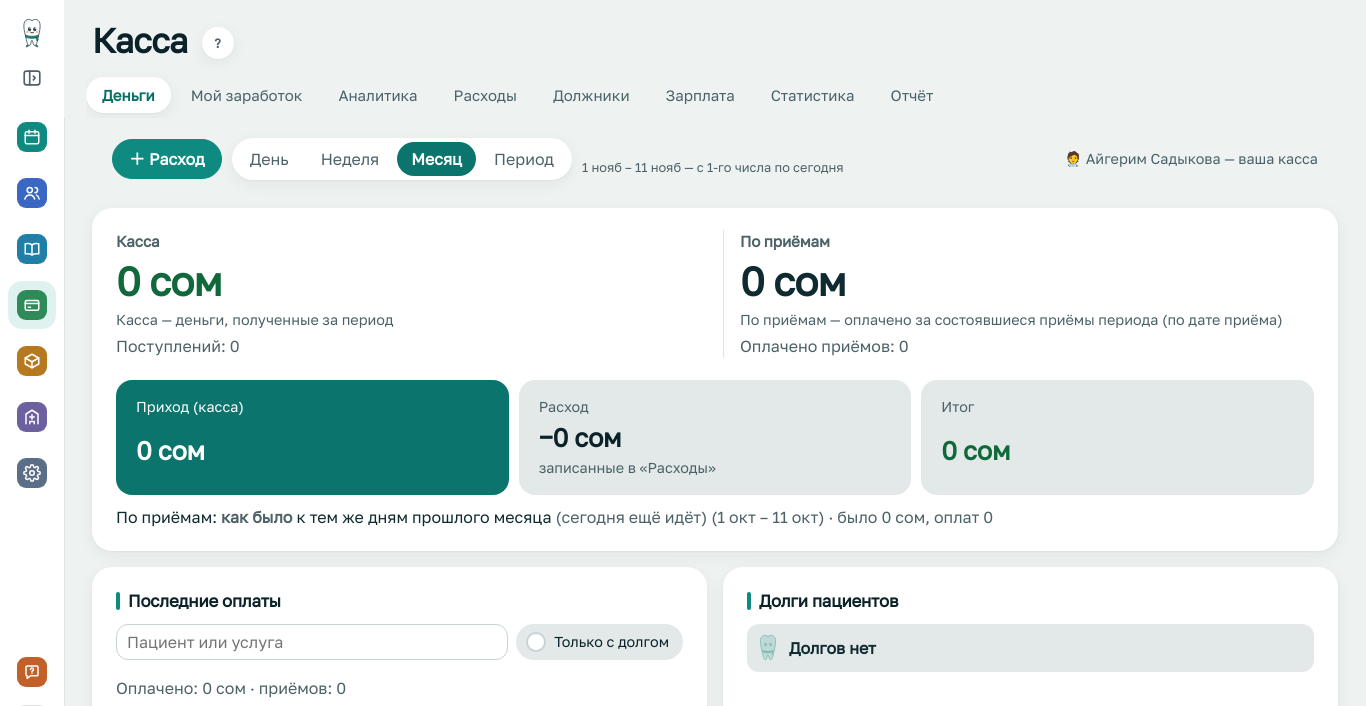
Scenario: условия зарплаты не заданы — выручка врача и подсказка про «Зарплату»
Expected: the navigation bar named "Разделы" is shown, x1=8 y1=113 x2=56 y2=497
Click the link "Мой заработок" at point(247, 95), box x1=191 y1=86 x2=302 y2=104
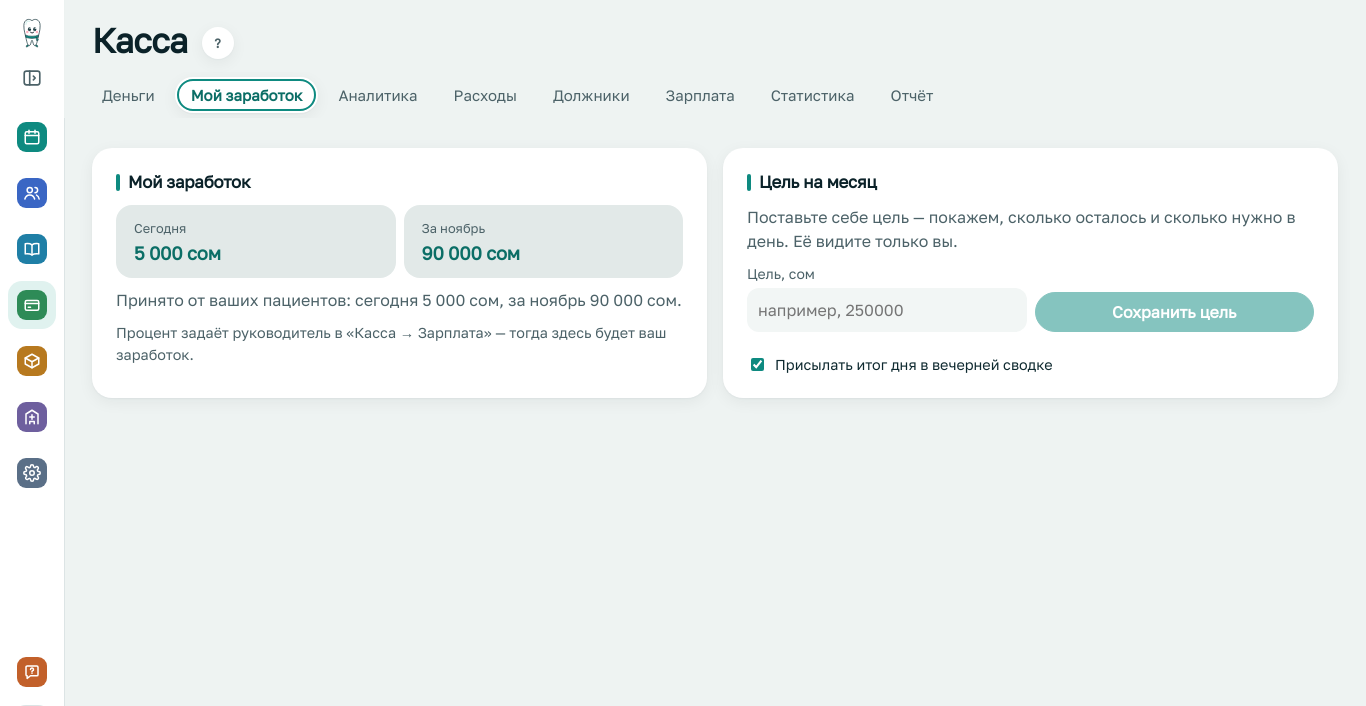
Expected: the field labelled "Цель, сом" is shown, x1=747 y1=288 x2=1026 y2=332
Result: the element "Мой заработок" shows "Процент задаёт руководитель в «Касса → Зарплата»" at x1=116 y1=324 x2=666 y2=363
Result: the button "Сохранить цель" is disabled at x1=1034 y1=292 x2=1314 y2=332
